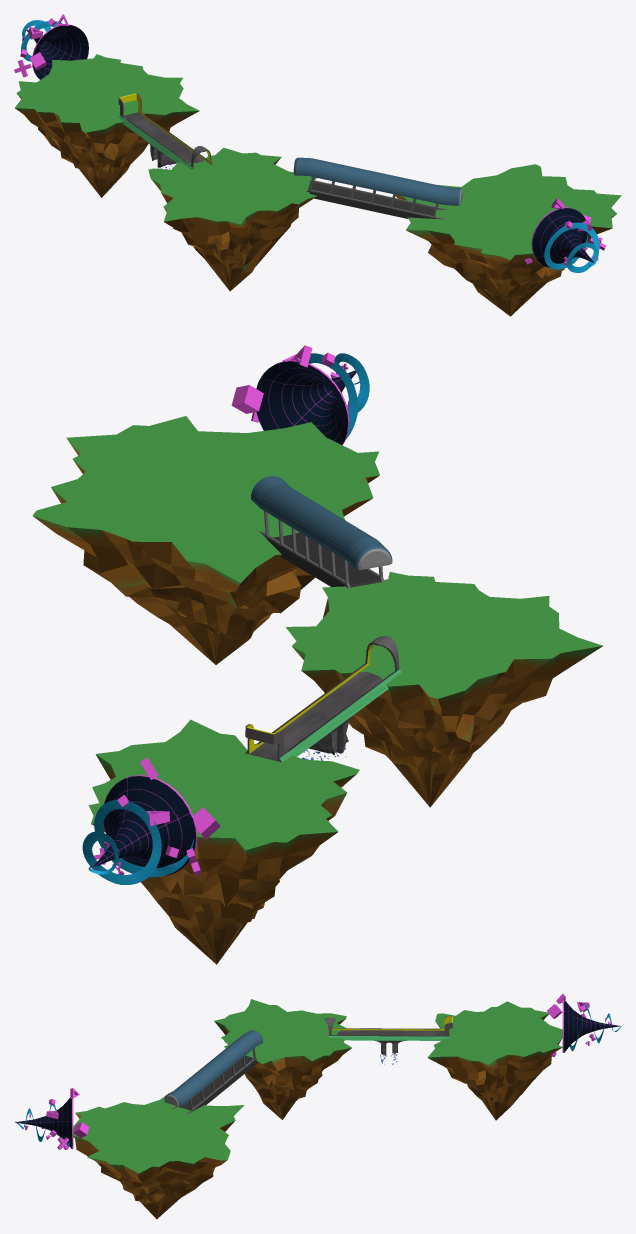
The model's file is Floating_Island.gltf.
3 views of the same model, one above another, from view 1: azimuth 30°, elevation 25°; view 2: azimuth 150°, elevation 25°; view 3: azimuth 270°, elevation 25° (orthographic). The views are drawn at different scales.
Parts seen in each view (by area): view 1: Ile 3, Ile 2, Ile 1, Toit pont 2, Pont 1, Pont 2, Cylinder, Cylinder.001, Plane; view 2: Ile 3, Ile 2, Ile 1, Pont 1, Cylinder.001, Cylinder, Toit pont 2, Pont 2, Plane.009, Plane; view 3: Ile 3, Ile 1, Ile 2, Toit pont 2, Pont 1, Pont 2, Cylinder.001, Cylinder.
Part boxes in pixels (x1,y1,x2,y2): Ile 3: (395, 164, 621, 316); Ile 2: (148, 147, 317, 291); Ile 1: (15, 54, 199, 197); Toit pont 2: (293, 157, 462, 205); Pont 1: (118, 93, 212, 169); Pont 2: (306, 177, 447, 219); Cylinder: (531, 207, 594, 267); Cylinder.001: (26, 24, 88, 79); Plane: (544, 222, 599, 272); Ile 3: (32, 416, 379, 664); Ile 2: (286, 572, 603, 807); Ile 1: (88, 719, 359, 964); Pont 1: (245, 636, 401, 762); Cylinder.001: (92, 775, 197, 875); Cylinder: (256, 360, 356, 445); Toit pont 2: (251, 476, 392, 569); Pont 2: (259, 511, 384, 588); Plane.009: (82, 799, 193, 884); Plane: (308, 353, 369, 439); Ile 3: (73, 1093, 244, 1219); Ile 1: (427, 1001, 562, 1120); Ile 2: (214, 999, 351, 1119); Toit pont 2: (164, 1030, 262, 1106); Pont 1: (325, 1015, 452, 1056); Pont 2: (171, 1048, 258, 1114); Cylinder.001: (562, 1001, 621, 1052); Cylinder: (14, 1098, 73, 1149).
Bounding box in the file's own units: 680 × 288 × 1103.
Materials: 13 (8 with a texture image).
